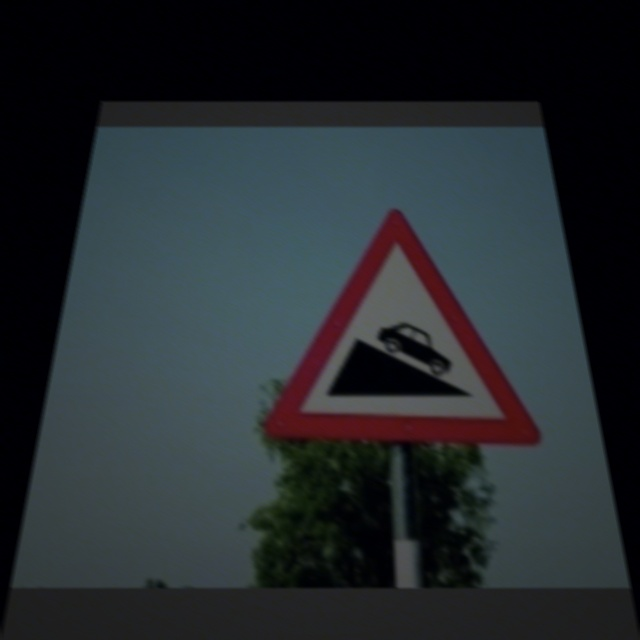Steep_Descent: (259, 207, 553, 448)
